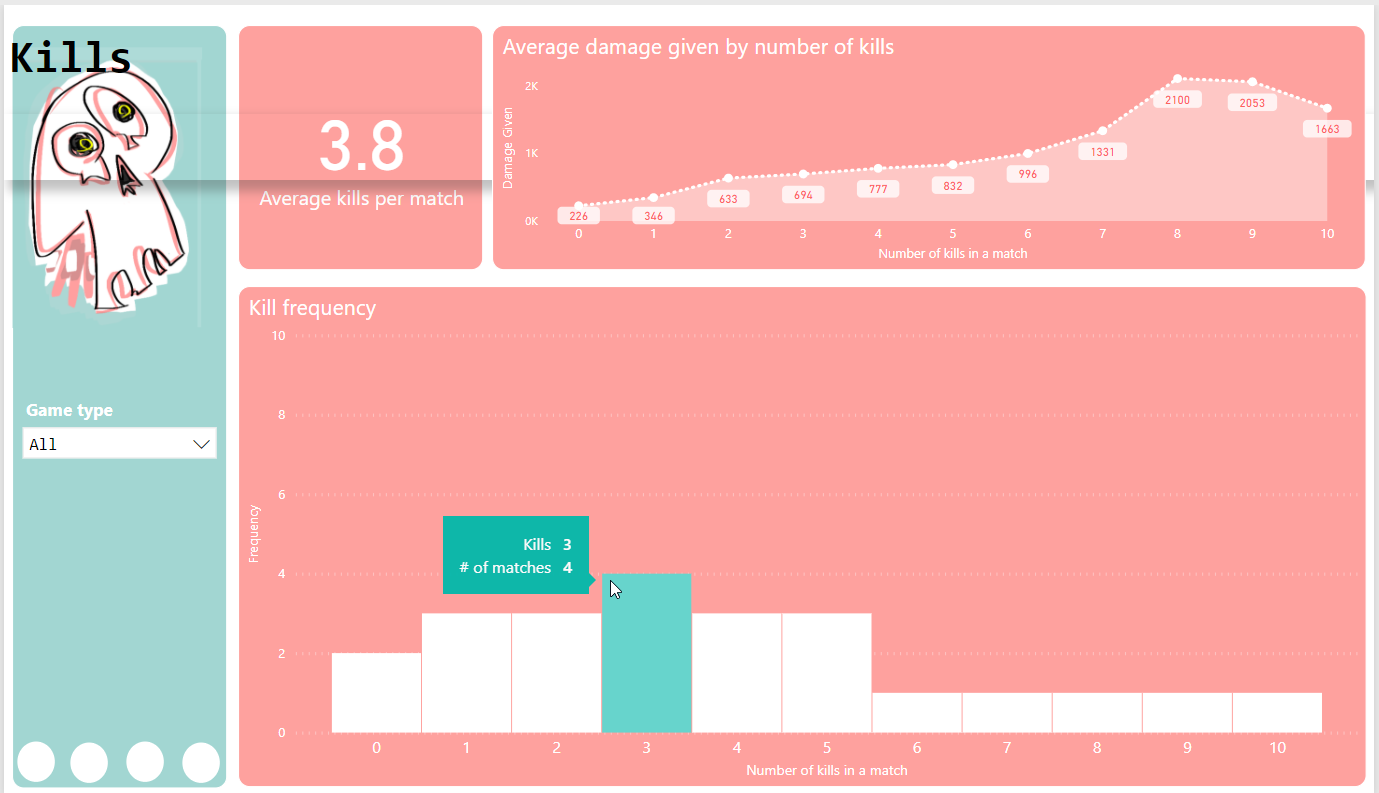

Layout of this report page (visuals, bound fields, positions):
{"tool":"powerbi","page":{"name":"Kills","canvas":[1280,720],"ordinal":1},"visuals":[{"type":"basicShape","box":[7.1,0,201,712.6],"z":0},{"type":"image","title":"deaths image","box":[0,16,192,272],"z":1000},{"type":"clusteredColumnChart","title":"Kill frequency","fields":{"Y":["CountNonNull(Fortnite stats.Index)"],"Category":["Fortnite stats.Kills"]},"box":[218.1,243.8,1053.6,468.2],"z":2000},{"type":"textbox","title":"title","box":[0,0,1280,61.9],"z":3000},{"type":"card","fields":{"Values":["Avg(Fortnite stats.Kills)"]},"box":[218.1,0,229.4,229.4],"z":4000},{"type":"slicer","fields":{"Values":["Fortnite stats.Game type"]},"box":[7.1,342.6,201,113],"z":5000},{"type":"textbox","title":"title","box":[0,83.3,1280,61.9],"z":6000},{"type":"areaChart","title":"Average damage given by number of kills","fields":{"Category":["Fortnite stats.Kills"],"Y":["Avg(Fortnite stats.Dam Given)"]},"box":[455.8,0,815.9,229.4],"z":7000},{"type":"basicShape","box":[7.2,663.7,45.3,48.4],"z":8000},{"type":"basicShape","box":[56.6,664.7,45.3,48.4],"z":9000},{"type":"basicShape","box":[109.1,663.7,45.3,48.4],"z":10000},{"type":"basicShape","box":[161.5,664.7,45.3,48.4],"z":11000}]}

Visuals, with their boxes in screenshot pixels (x1, y1, x2, y2), scaled from the page's 1280x720 canvas onto the 1379x793 screenshot:
basicShape: (left=8, top=0, right=224, bottom=785)
"deaths image" image: (left=0, top=18, right=207, bottom=317)
"Kill frequency" clusteredColumnChart: (left=235, top=269, right=1370, bottom=784)
"title" textbox: (left=0, top=0, right=1378, bottom=68)
card - Avg(Fortnite stats.Kills): (left=235, top=0, right=482, bottom=253)
slicer - Fortnite stats.Game type: (left=8, top=377, right=224, bottom=502)
"title" textbox: (left=0, top=92, right=1378, bottom=160)
"Average damage given by number of kills" areaChart: (left=491, top=0, right=1370, bottom=253)
basicShape: (left=8, top=731, right=57, bottom=784)
basicShape: (left=61, top=732, right=110, bottom=785)
basicShape: (left=118, top=731, right=166, bottom=784)
basicShape: (left=174, top=732, right=223, bottom=785)
